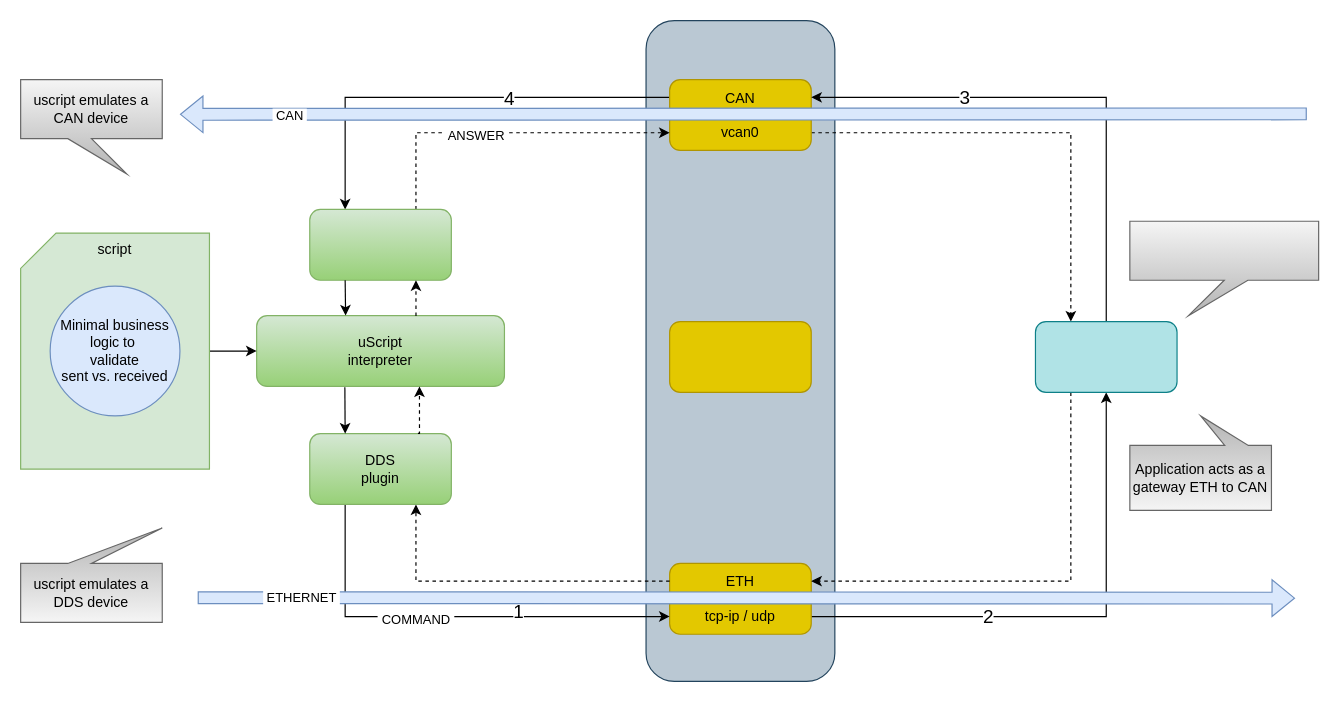
Some shapes in this 1339 by 702 pixel diagram are drawn without their labels. The centre of each missing label's shape, as x and y in pixels:
"And send to CAN the messages extracted from DDS/ETH" belongs at [1224,268].
"Application" belongs at [1105,356].
"CAN plugin" belongs at [380,244].
"UART tnt0/7 (optional)" belongs at [739,356].
